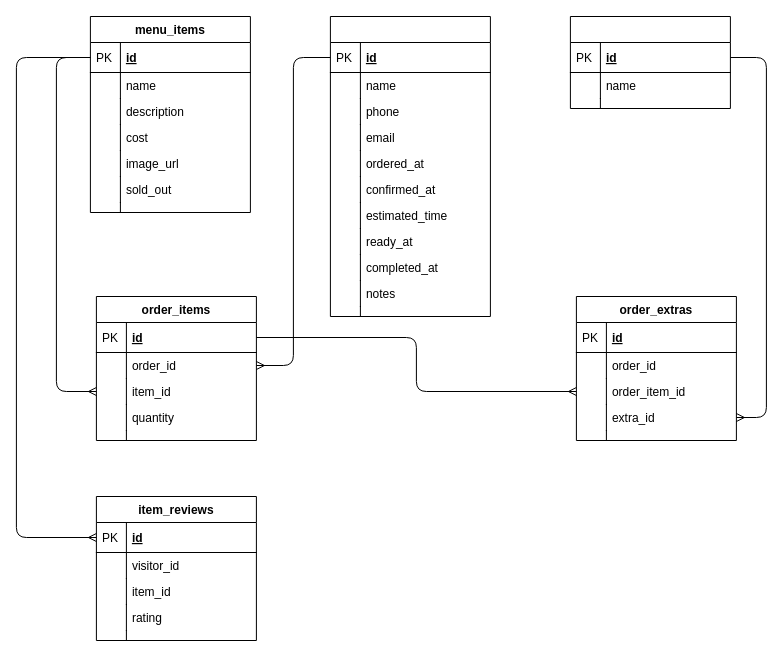
Image size: 783x657. Some labels were removed from this diagram. The box of each missing label's shape, as (x1, y1, x2, y2) in pixels:
extras: (569, 16, 730, 108)
orders: (329, 16, 490, 316)
